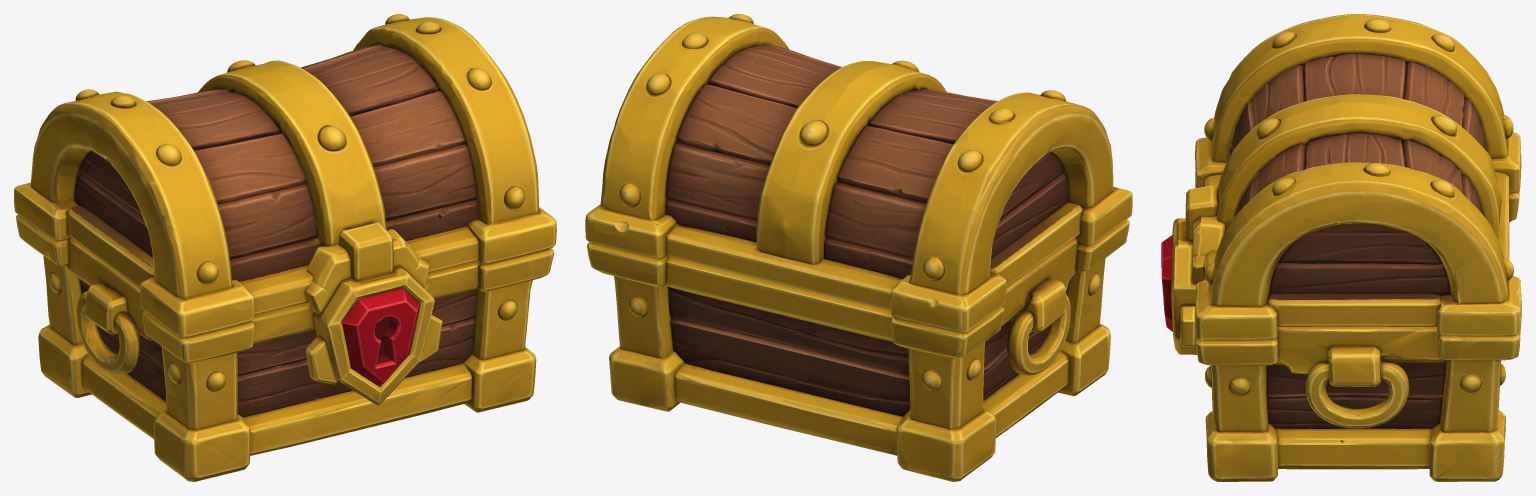
File: gold.glb
The picture shows the model from 3 angles, left to right: view 1: azimuth 30°, elevation 25°; view 2: azimuth 150°, elevation 25°; view 3: azimuth 270°, elevation 25°; orthographic projection. The views are drawn at different scales.
Bounding box in the file's own units: 1.9 × 1.51 × 1.59.
1 material, 1 textured.
